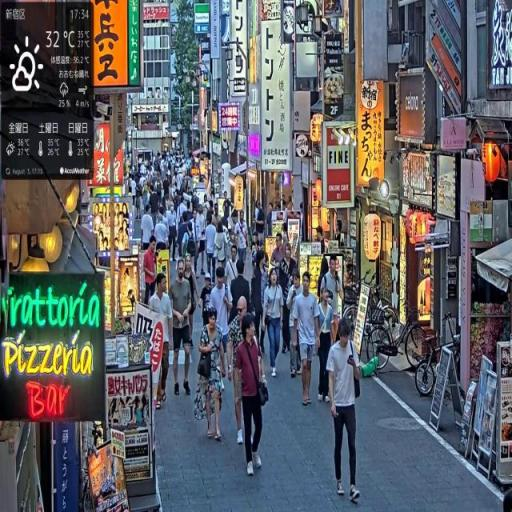person: (328, 318, 365, 504), (235, 315, 271, 477), (196, 308, 228, 446), (292, 270, 321, 407), (171, 258, 196, 398), (229, 295, 252, 447), (150, 273, 174, 409), (316, 286, 339, 406), (209, 267, 233, 381), (263, 268, 285, 380), (183, 255, 199, 348), (144, 237, 159, 307)
